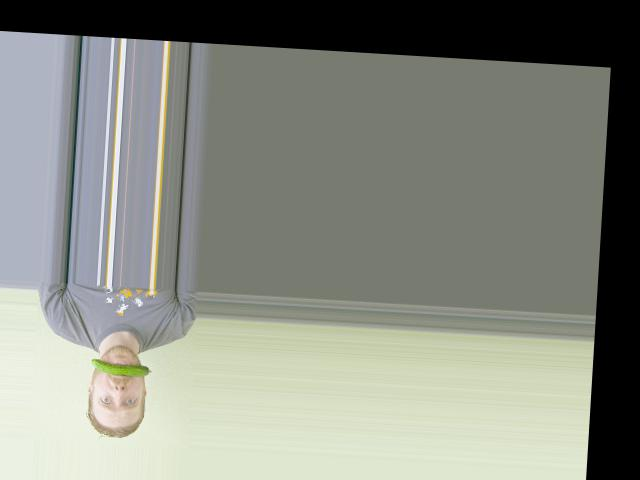cucumber: (89, 358, 152, 377)
